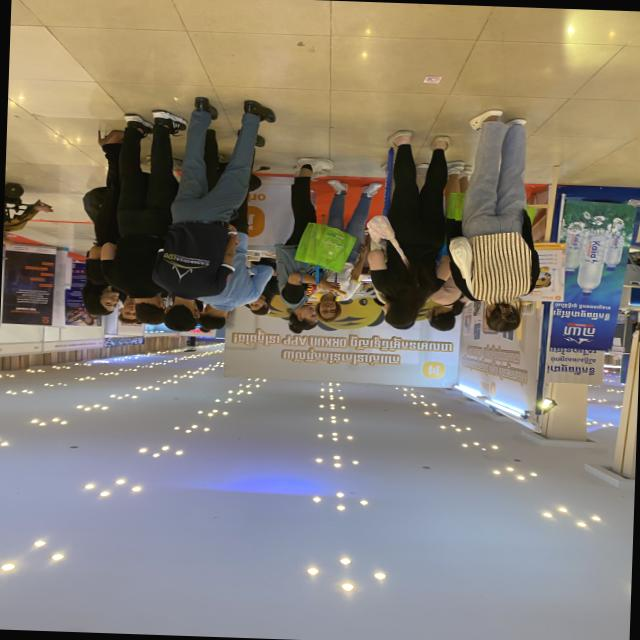1: (551, 300, 613, 312)
Yolov11_80vkh: (277, 348, 404, 367), (346, 332, 454, 354), (229, 327, 281, 348), (549, 306, 613, 322), (548, 362, 599, 377), (546, 355, 598, 367)
